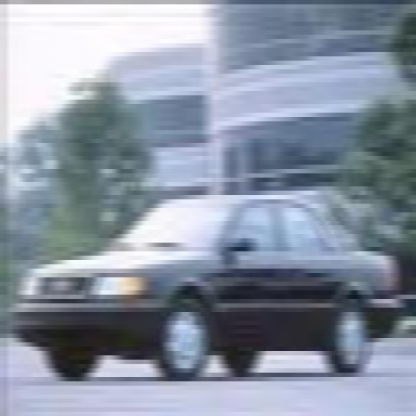Vehicle: (3, 186, 413, 399)
